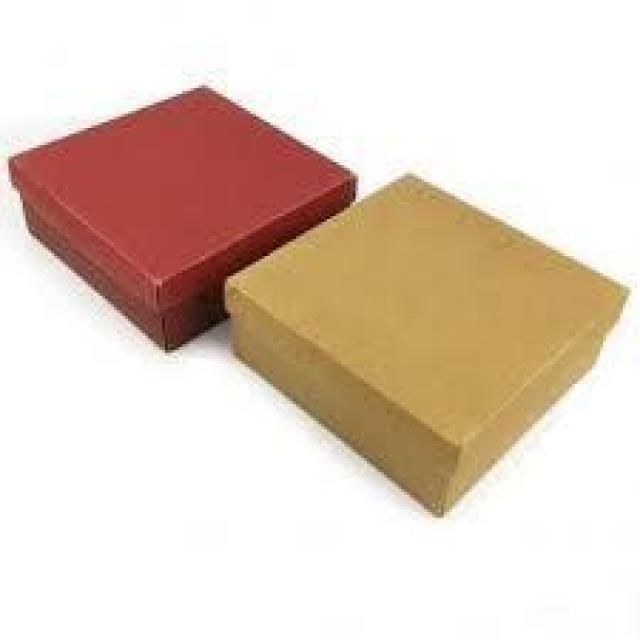box: (222, 171, 631, 518), (9, 83, 361, 353)
